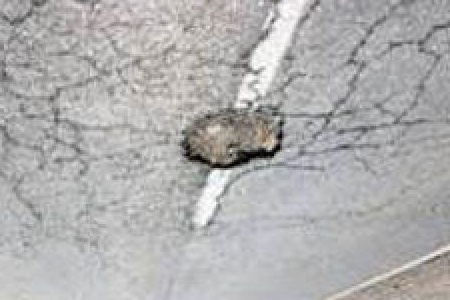pothole: (178, 102, 288, 171)
